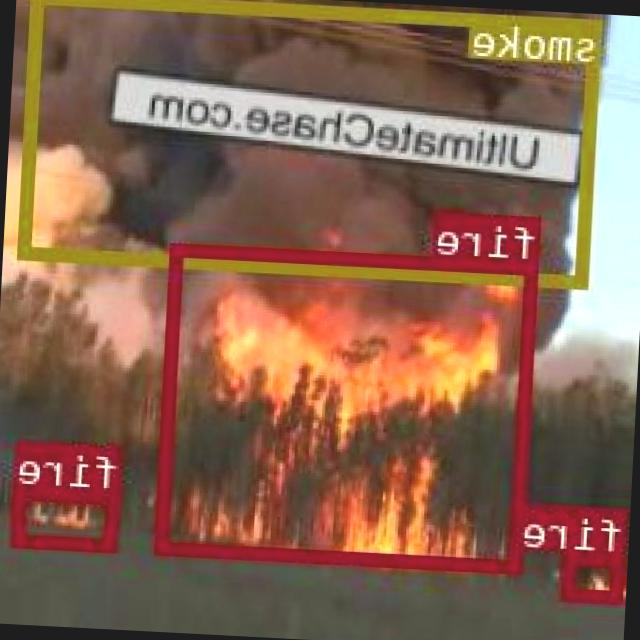fire: (158, 242, 540, 572), (14, 486, 122, 550), (564, 551, 626, 602)
smoke: (22, 0, 604, 286)
